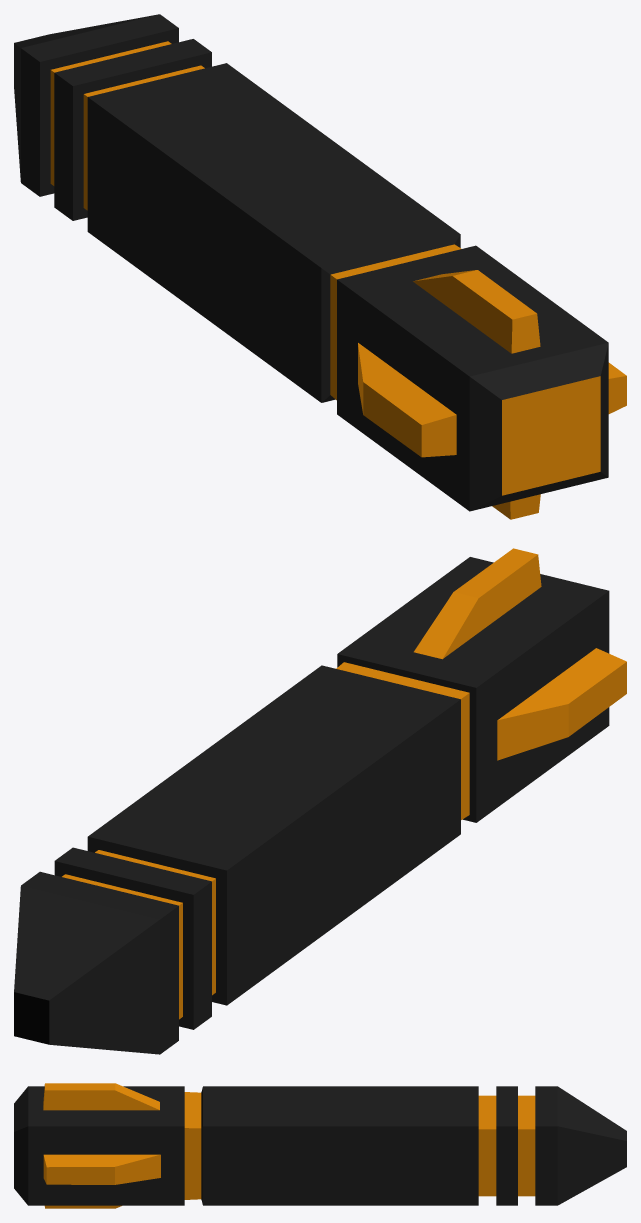
The model's file is PlayerMissile.fbx.
3 views of the same model, one above another, from view 1: azimuth 30°, elevation 25°; view 2: azimuth 150°, elevation 25°; view 3: azimuth 270°, elevation 25° (orthographic). The views are drawn at different scales.
Parts seen in each view (by area): view 1: MissilePlayer4; view 2: MissilePlayer4; view 3: MissilePlayer4.
Part boxes in pixels (x1,y1,x2,y2): MissilePlayer4: [14, 14, 626, 519]; MissilePlayer4: [14, 548, 626, 1054]; MissilePlayer4: [14, 1083, 626, 1208].
Bounding box in the file's own units: 25.9 × 24.03 × 113.
